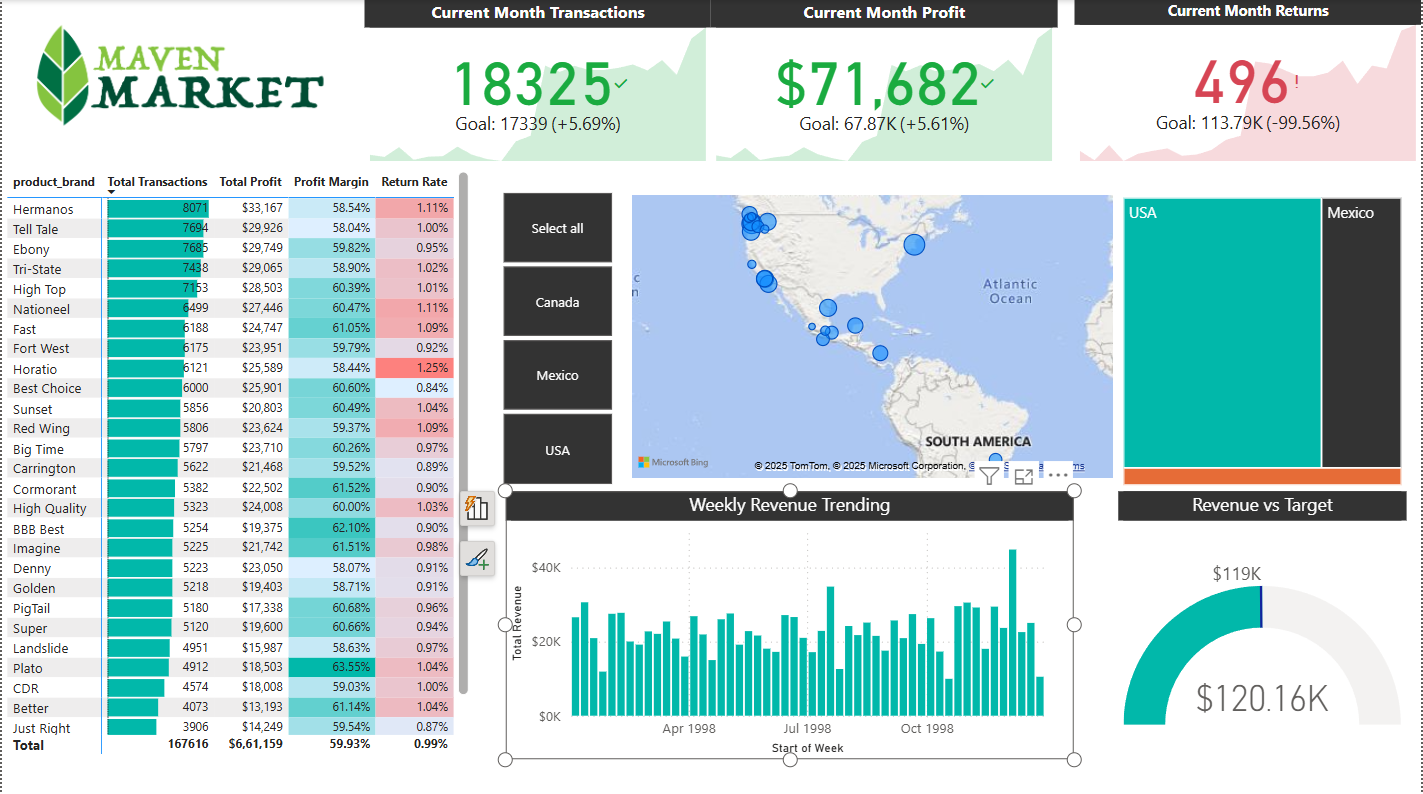

What the dashboard file says about the page in this screenshot:
{"tool":"powerbi","page":{"name":"Topline performance","canvas":[1280,720],"ordinal":0},"visuals":[{"type":"pivotTable","fields":{"Rows":["Products.product_brand"],"Values":["Transaction_Data.Total Transactions","Transaction_Data.Total Profit","Transaction_Data.Profit Margin","Return_Data.Return Rate"]},"box":[0,150.4,425.5,535.6],"z":0},{"type":"image","box":[19.6,0,281.3,134.5],"z":1000},{"type":"kpi","title":"Current Month Transactions","fields":{"TrendLine":["Calender.Start of Month"],"Indicator":["Transaction_Data.Total Transactions"],"Goal":["Transaction_Data.Last Month Transactions"]},"box":[326.5,0,313,150.4],"z":2000},{"type":"kpi","title":"Current Month Returns","fields":{"TrendLine":["Calender.Start of Month"],"Indicator":["Return_Data.Total Returns"],"Goal":["Transaction_Data.last month returns"]},"box":[967.3,0,313,150.4],"z":3000},{"type":"kpi","title":"Current Month Profit","fields":{"TrendLine":["Calender.Start of Month"],"Indicator":["Transaction_Data.Total Profit"],"Goal":["Transaction_Data.Last month Profit"]},"box":[639.5,0,313,150.4],"z":4000},{"type":"map","fields":{"Size":["Transaction_Data.Total Transactions"],"Category":["Stores.City"]},"box":[563.7,171.2,442.7,265.4],"z":5000},{"type":"slicer","fields":{"Values":["Stores.Country/Region"]},"box":[425.5,166.3,148,276.4],"z":6000},{"type":"treemap","fields":{"Group":["Stores.Country/Region","Stores.State or Province","Stores.City"],"Values":["Transaction_Data.Total Transactions"]},"box":[1006.4,173.6,260.5,269],"z":7000},{"type":"clusteredColumnChart","title":"Weekly Revenue Trending","fields":{"Y":["Transaction_Data.Total Revenue"],"Category":["Calender.Start of Week"]},"box":[454.5,442.9,512.2,242.4],"z":8000},{"type":"gauge","title":"Revenue vs Target","fields":{"Y":["Transaction_Data.Total Revenue"],"TargetValue":["Transaction_Data.Revenue Target"]},"box":[1006,443,260,243],"z":9000}]}

Visuals, with their boxes in screenshot pixels (x1, y1, x2, y2), scaled from the page's 1280x720 canvas onto the 1423x794 screenshot:
pivotTable - Products.product_brand x Transaction_Data.Total Transactions: box=[0, 166, 473, 757]
image: box=[22, 0, 335, 148]
"Current Month Transactions" kpi: box=[363, 0, 711, 166]
"Current Month Returns" kpi: box=[1075, 0, 1422, 166]
"Current Month Profit" kpi: box=[711, 0, 1059, 166]
map - Transaction_Data.Total Transactions x Stores.City: box=[627, 189, 1119, 481]
slicer - Stores.Country/Region: box=[473, 183, 638, 488]
treemap - Stores.Country/Region x Stores.State or Province: box=[1119, 191, 1408, 488]
"Weekly Revenue Trending" clusteredColumnChart: box=[505, 488, 1075, 756]
"Revenue vs Target" gauge: box=[1118, 489, 1407, 757]
